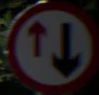Two way: (12, 9, 89, 78)
